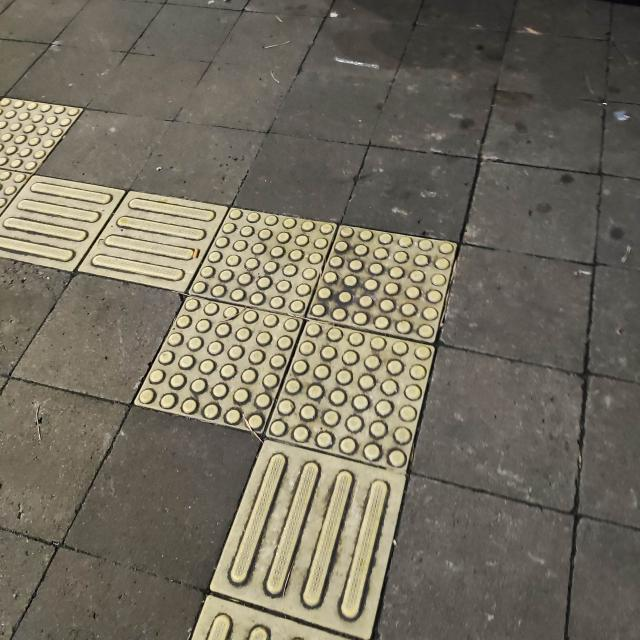kiri: (16, 162, 516, 584)
